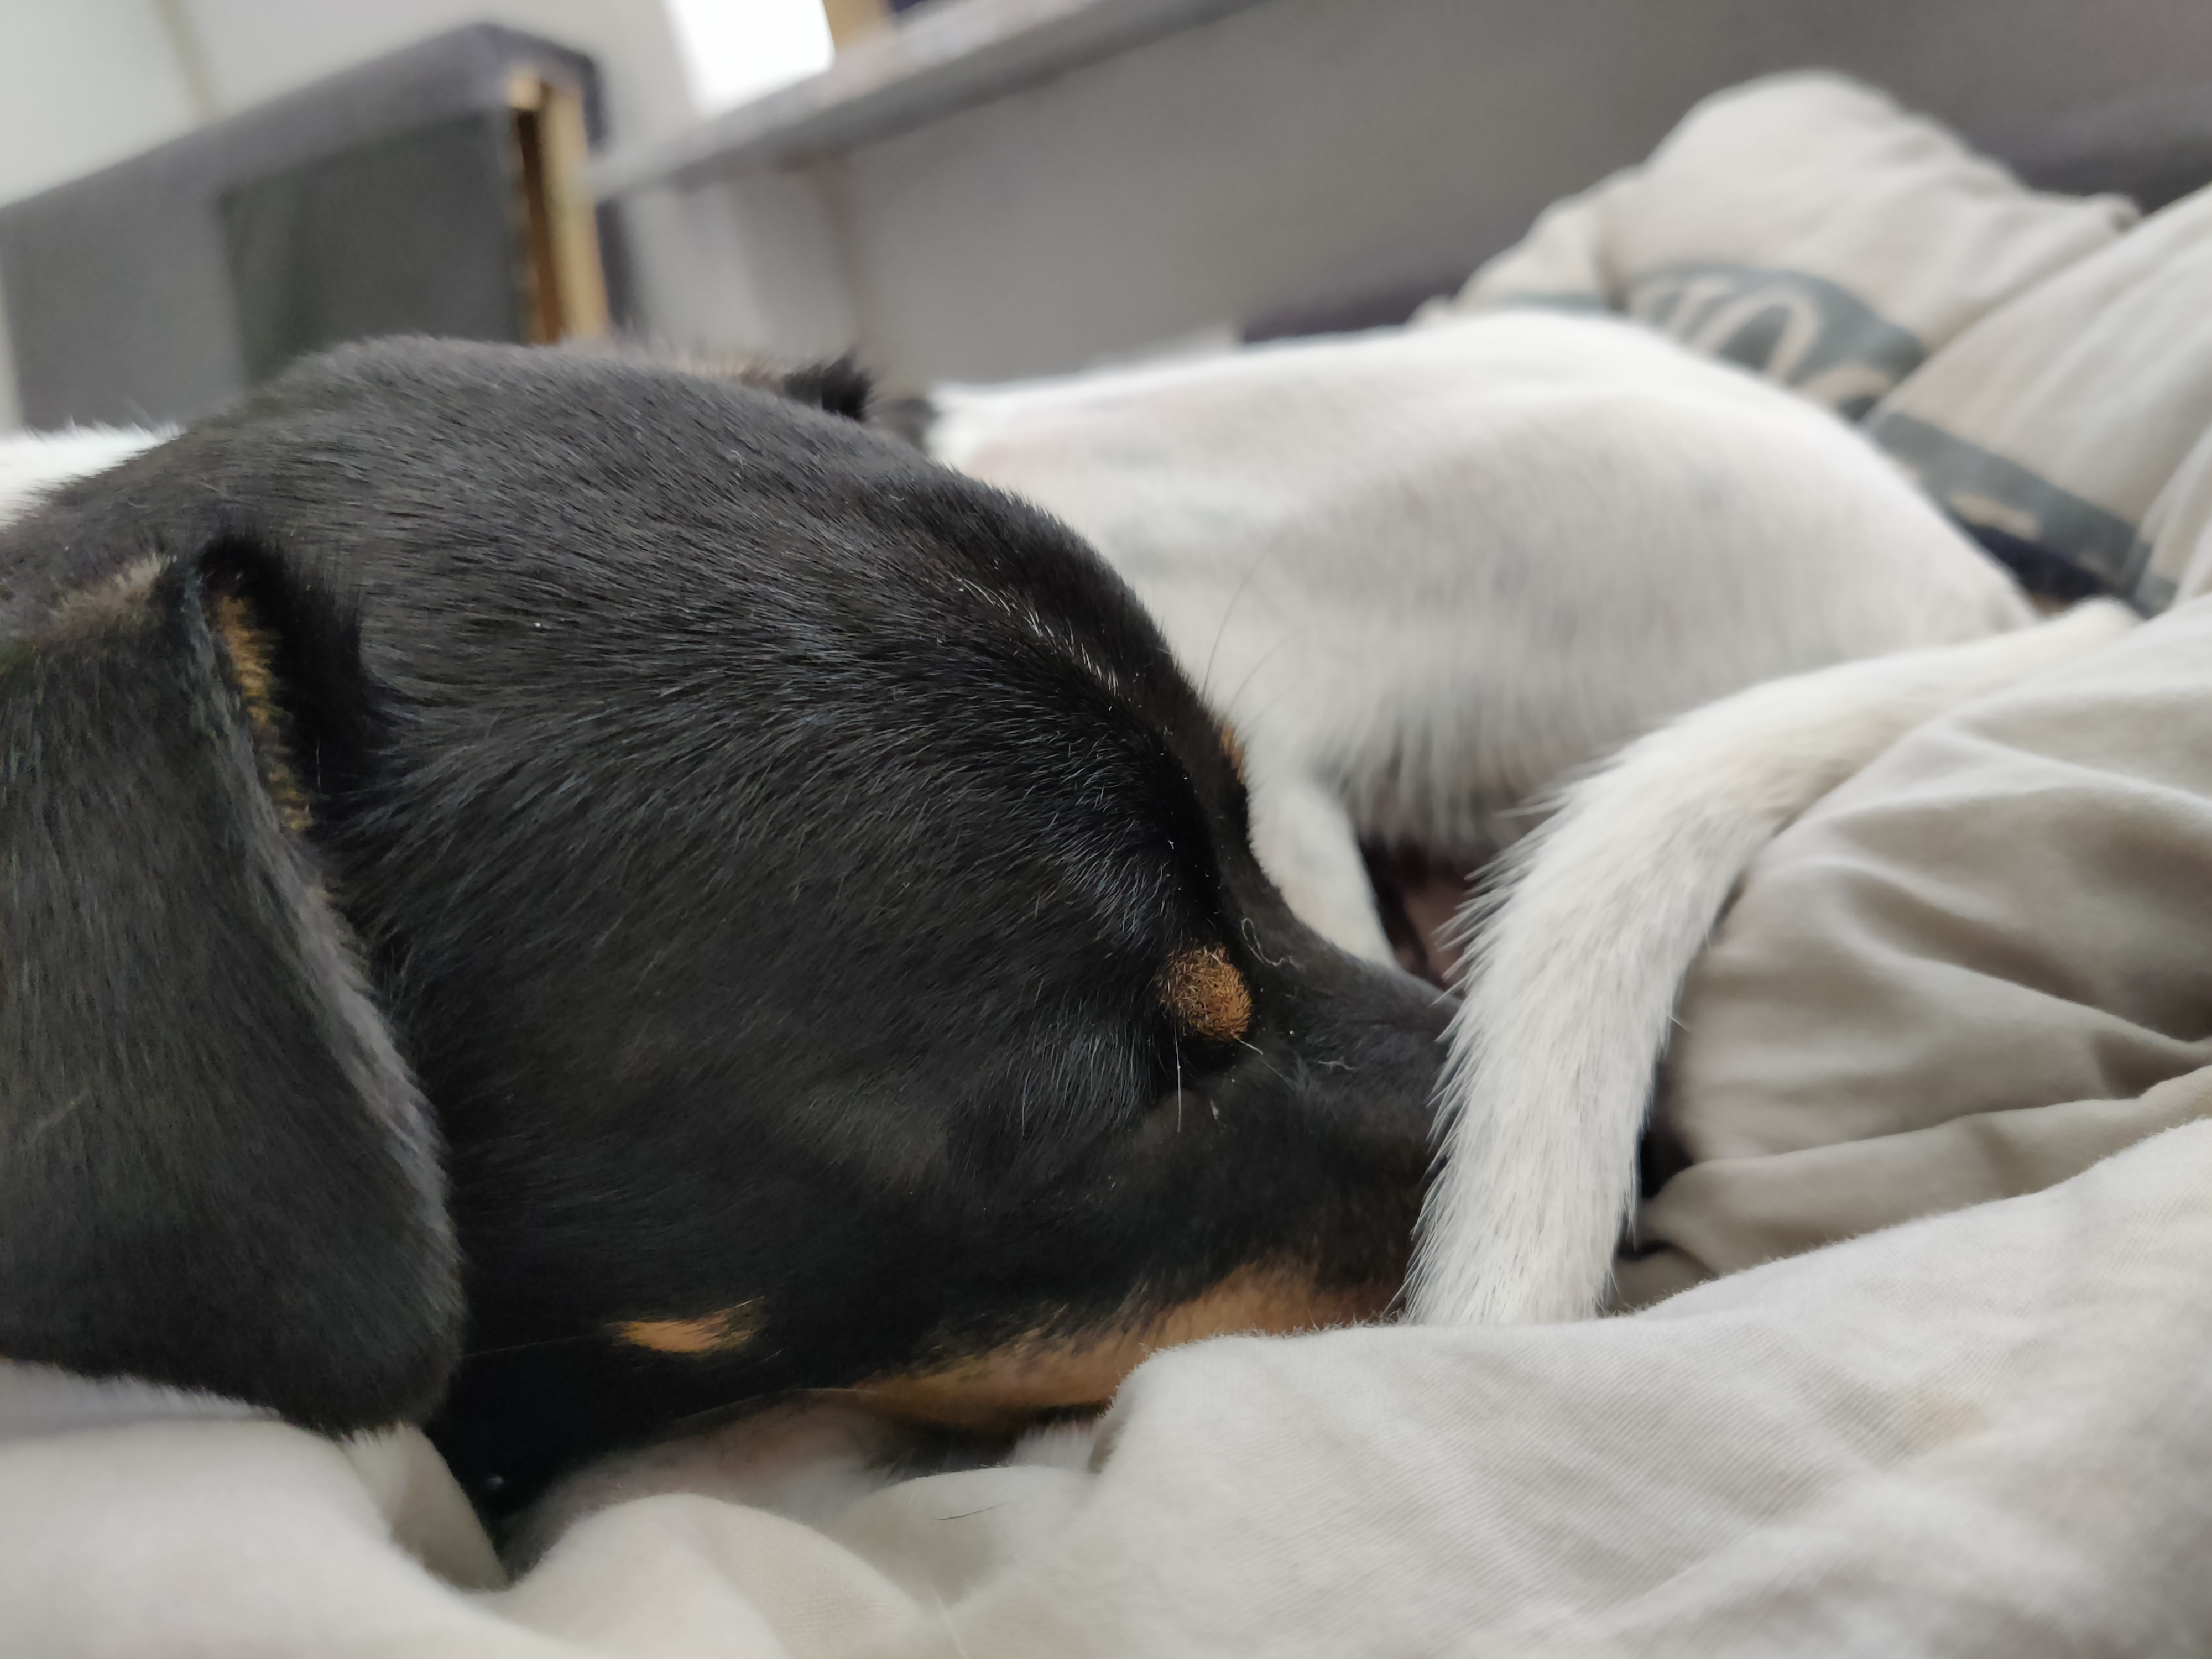Dog: (0, 301, 2160, 1521)
